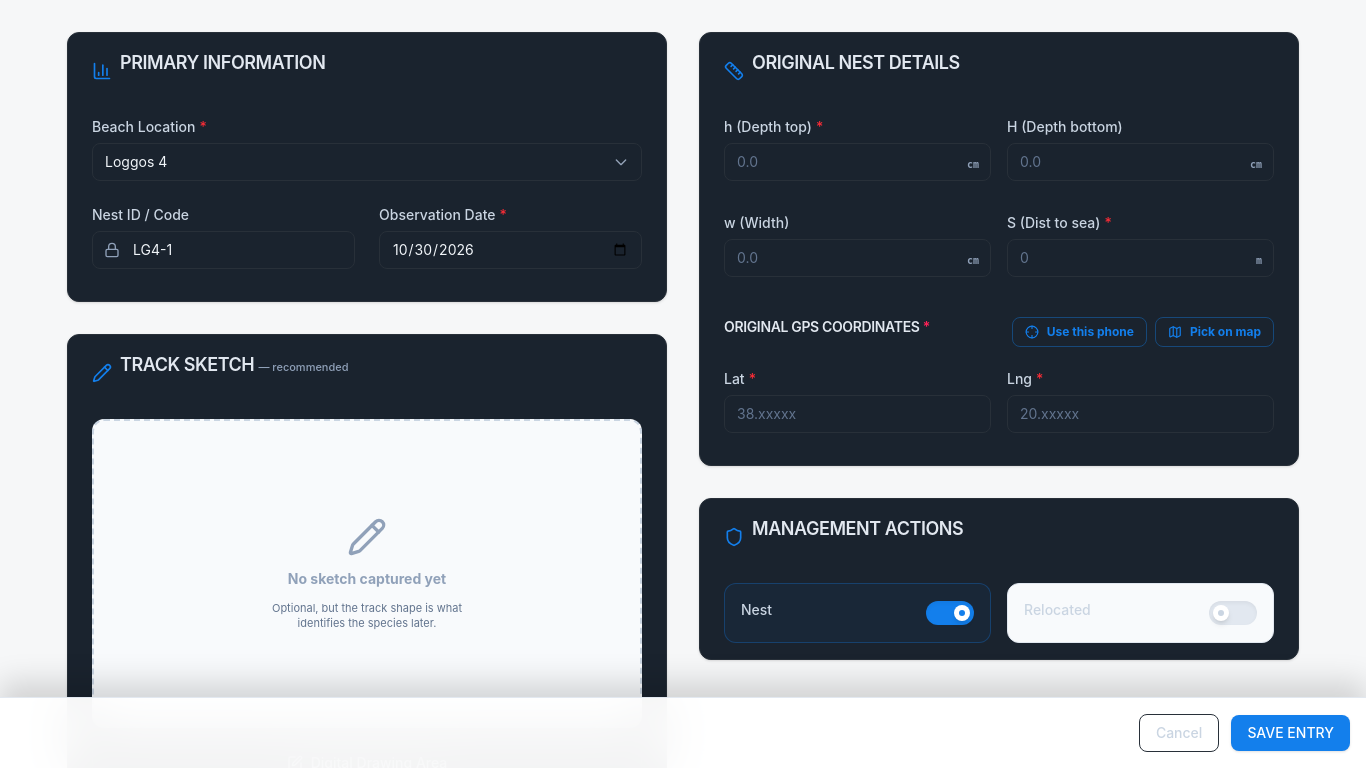
Test: NestEntry: out-of-season hint suppressed for a future date (QA-159) › shows only the future-date error, not the out-of-season hint, for a future date
Type "2026-11-15" into the date field labelled "Observation Date".
click(510, 250); type("2026-11-15")  # box [379, 231, 642, 269]
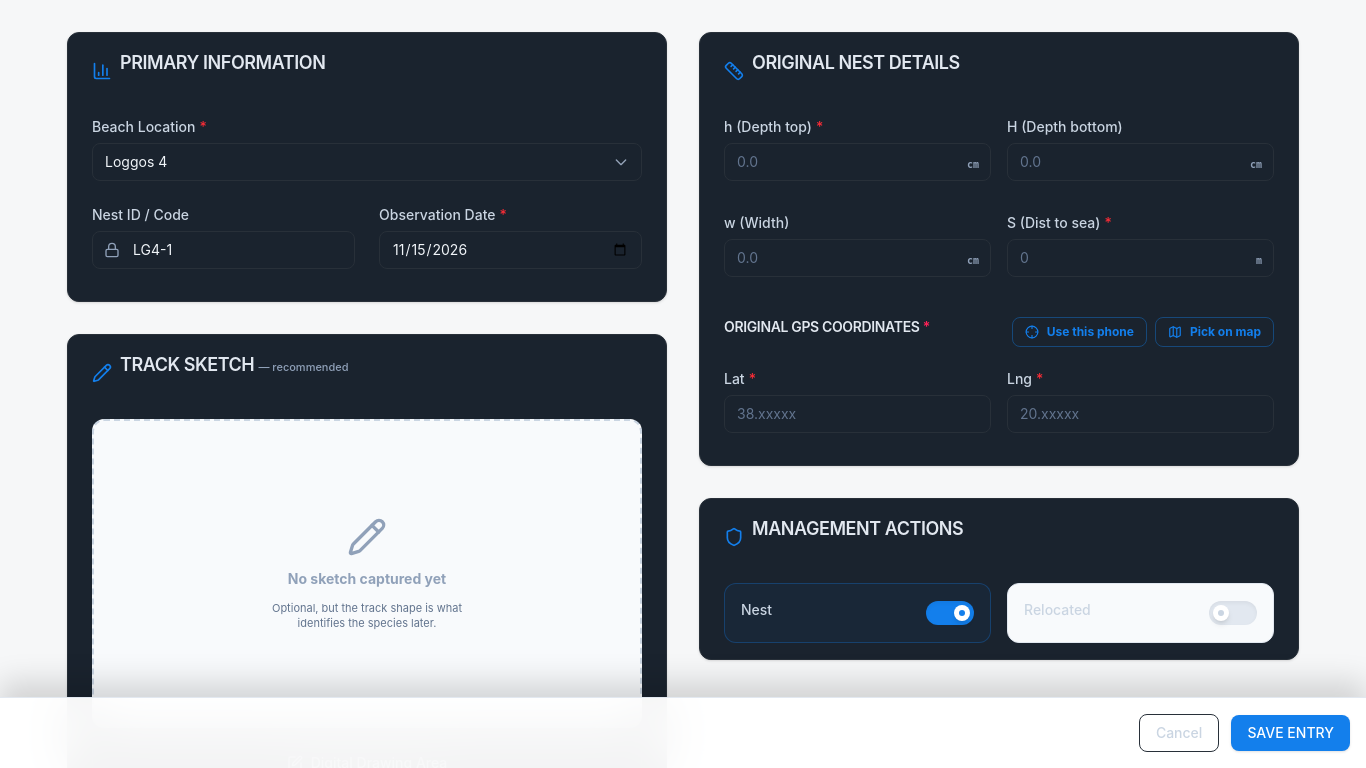
Click the button "SAVE ENTRY".
click(1291, 733)  # box [1231, 715, 1350, 751]
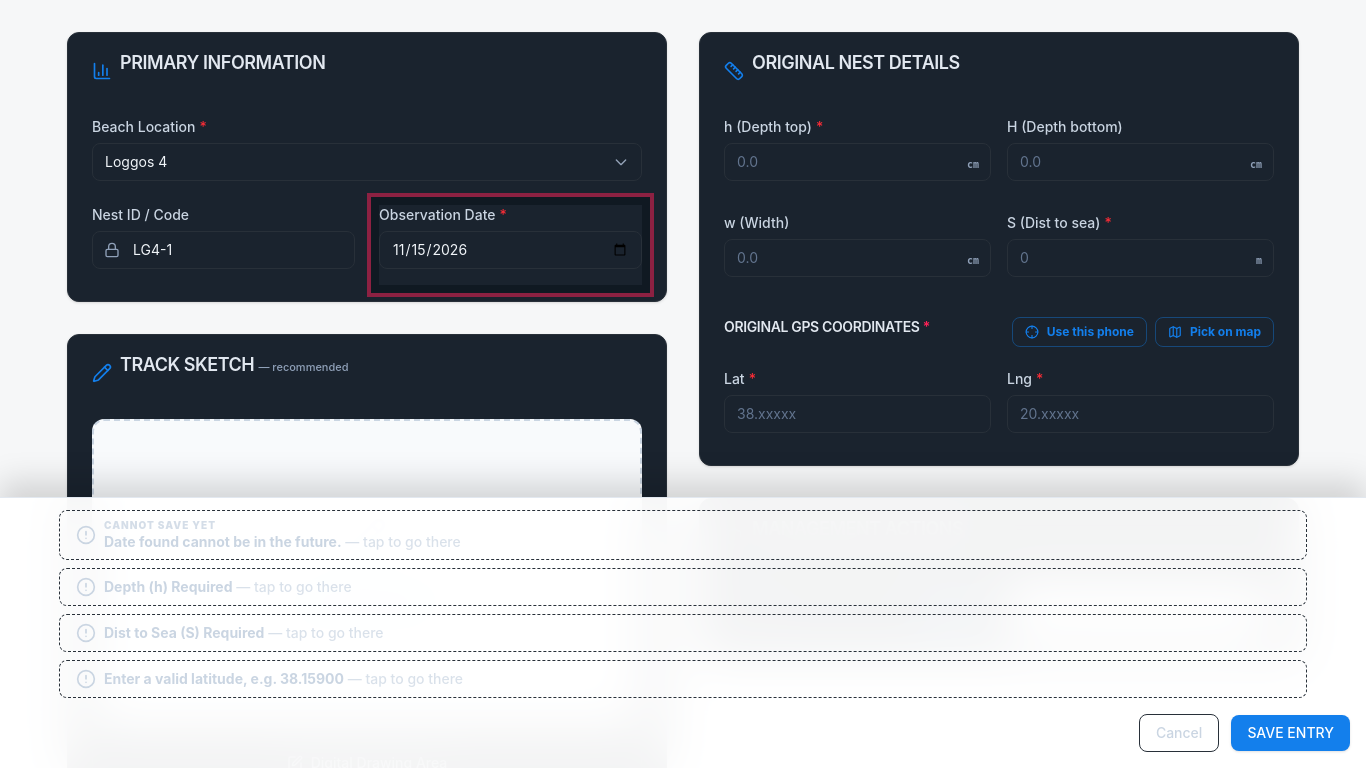
Expected: the text "Date found cannot be in the future. — tap to go there" is shown, [104, 532, 461, 551]
